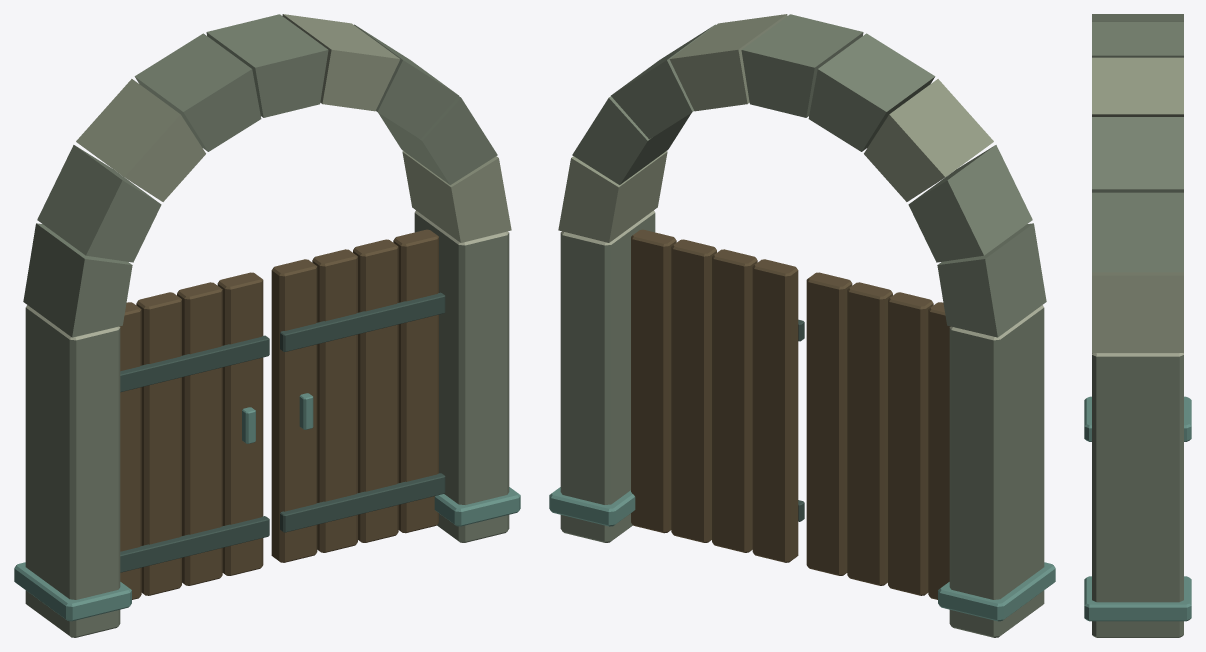
File: doorway.glb
3 views of the same model, side by side, from view 1: azimuth 30°, elevation 25°; view 2: azimuth 150°, elevation 25°; view 3: azimuth 270°, elevation 25° (orthographic). The views are drawn at different scales.
Visible parts, largest first — view 1: doorway__body, doorway__leaf-right, doorway__leaf-left; view 2: doorway__body, doorway__leaf-right, doorway__leaf-left; view 3: doorway__body.
Boxes of the visible parts, bbox=[...] form: doorway__body: bbox=[14, 14, 520, 637]; doorway__leaf-right: bbox=[271, 229, 445, 562]; doorway__leaf-left: bbox=[119, 272, 269, 599]; doorway__body: bbox=[549, 14, 1055, 637]; doorway__leaf-right: bbox=[631, 229, 804, 562]; doorway__leaf-left: bbox=[806, 272, 950, 599]; doorway__body: bbox=[1084, 14, 1191, 637].
Bounding box in the file's own units: 2.69 × 2.98 × 0.58.
